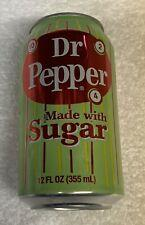metal: (19, 13, 123, 194)
